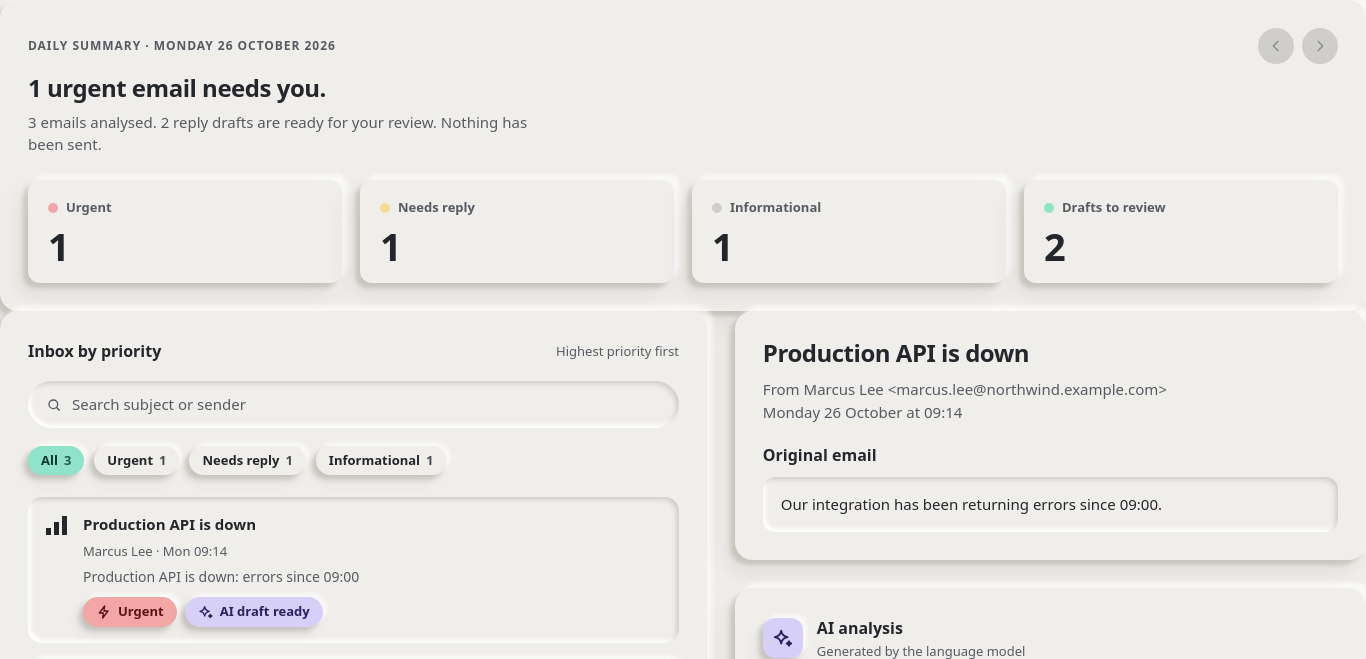
Test: Overview › searches by subject, sender or summary
The image size is (1366, 659).
Step 1. Type "priya" into the search field labelled "Search subject or sender" → (366, 405), box x1=72 y1=381 x2=661 y2=428
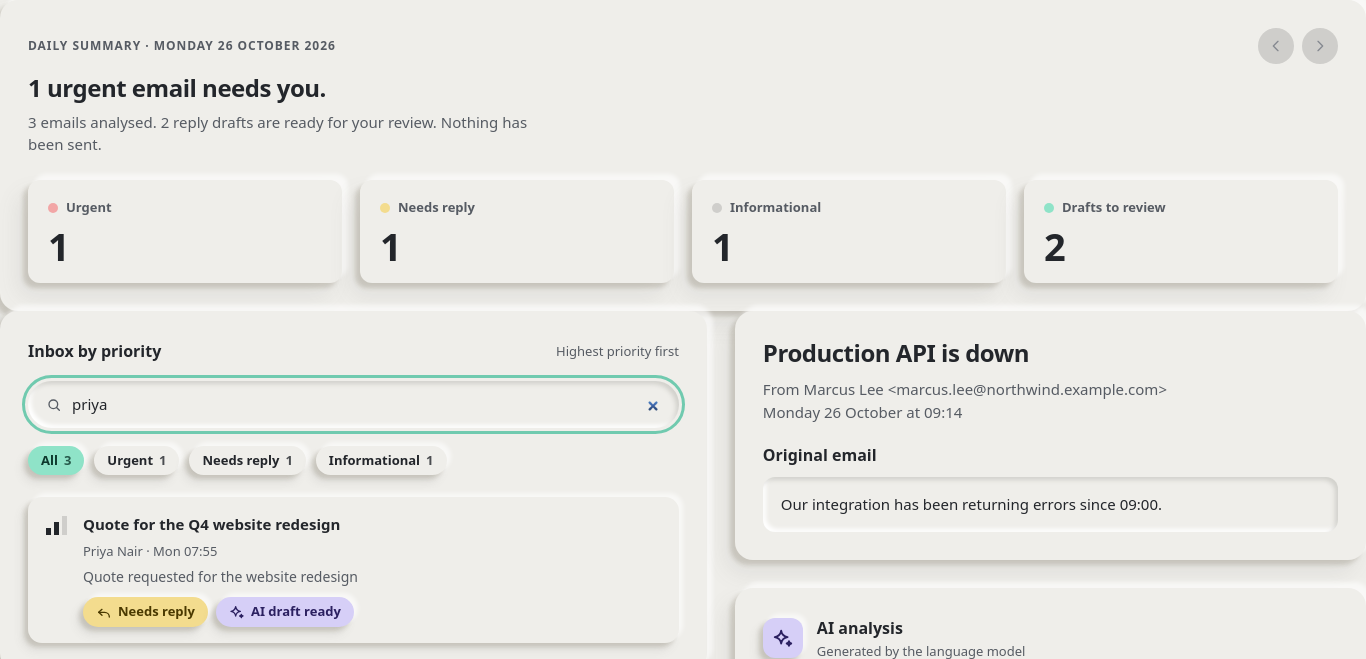
Step 2. Replace the text in the search field with "nothing like this" → (366, 405), box x1=72 y1=381 x2=661 y2=428
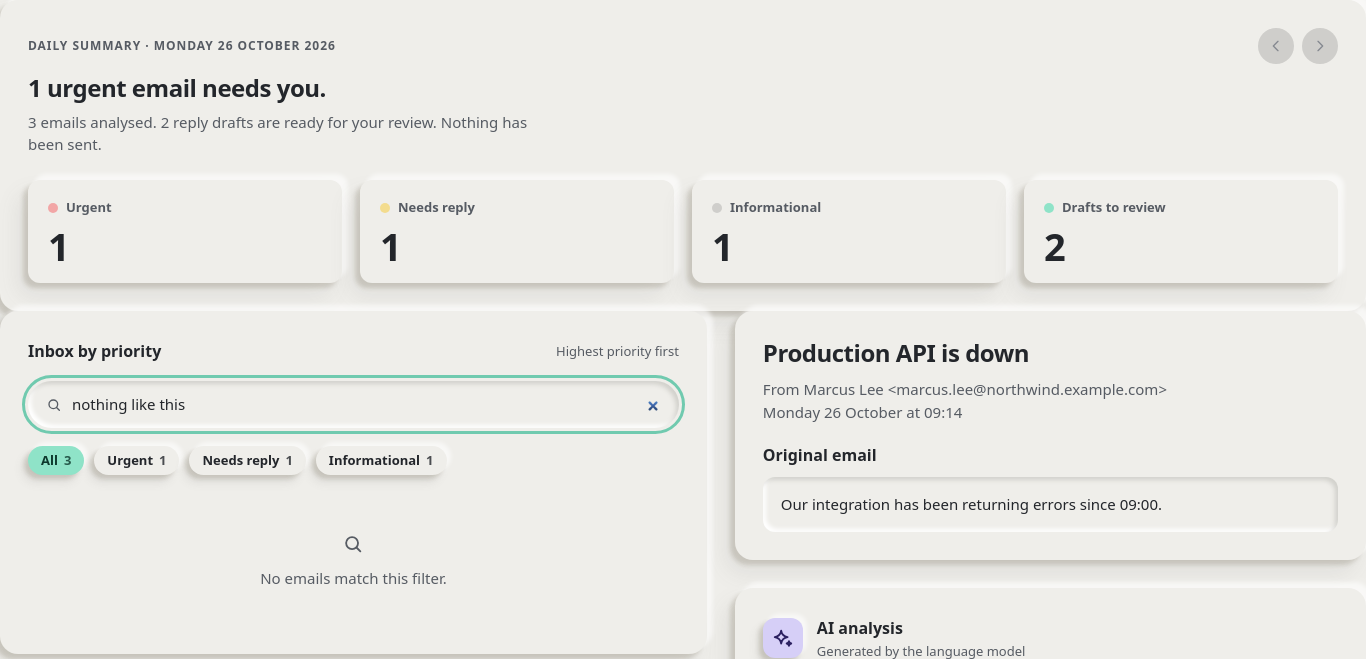
Check: the text "No emails match this filter." is shown, box x1=260 y1=567 x2=447 y2=590
